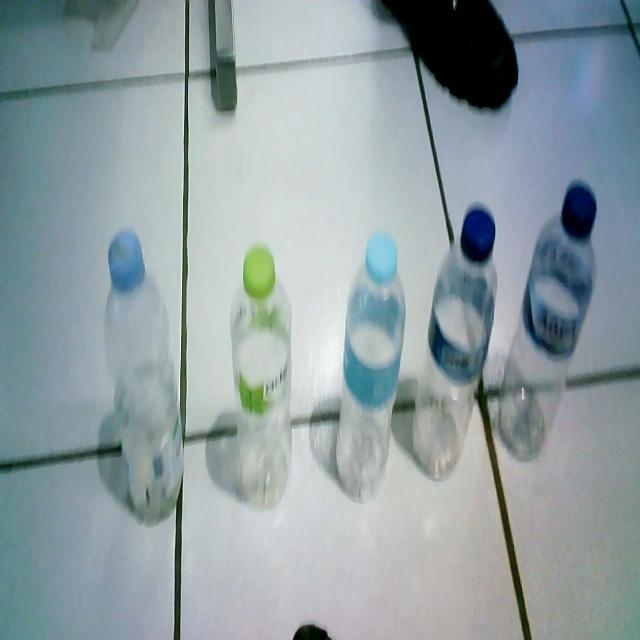botol: (501, 178, 599, 465), (105, 231, 187, 531), (414, 202, 499, 485), (337, 230, 407, 507), (230, 243, 294, 517)
